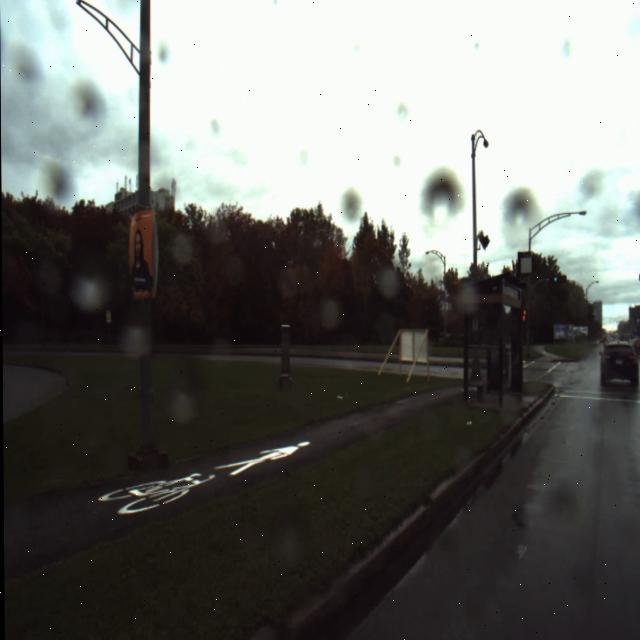car: (598, 341, 637, 388), (637, 333, 640, 361)
trafficLight: (521, 307, 527, 325)
trafficLight-Green: (552, 274, 559, 283)
